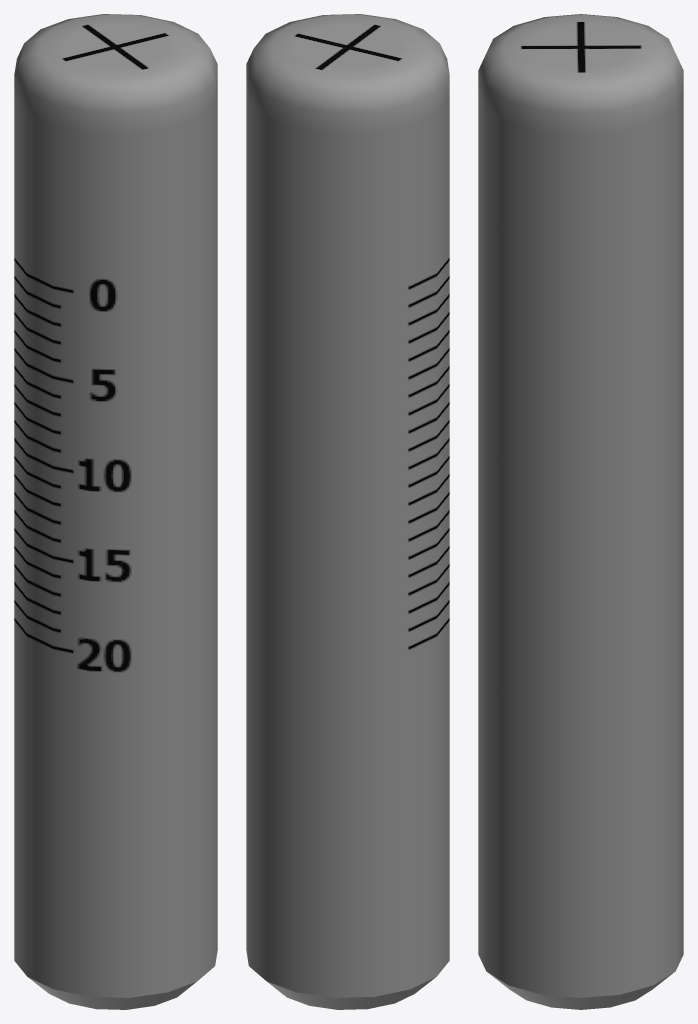
3 renders of one model, left to right at view 1: azimuth 30°, elevation 25°; view 2: azimuth 150°, elevation 25°; view 3: azimuth 270°, elevation 25°, orthographic.
Visible parts, largest first — view 1: test_object_A; view 2: test_object_A; view 3: test_object_A.
Boxes of the visible parts, x1=… form: test_object_A: x1=14, y1=14, x2=217, y2=1009; test_object_A: x1=246, y1=14, x2=449, y2=1009; test_object_A: x1=478, y1=14, x2=683, y2=1009.
Size of the model in its own units: 2 by 10 by 2.
